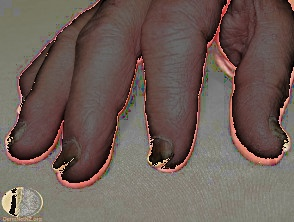Nail_psoriasis: (38, 122, 100, 192), (0, 108, 41, 160), (141, 132, 184, 175), (256, 110, 294, 156)
